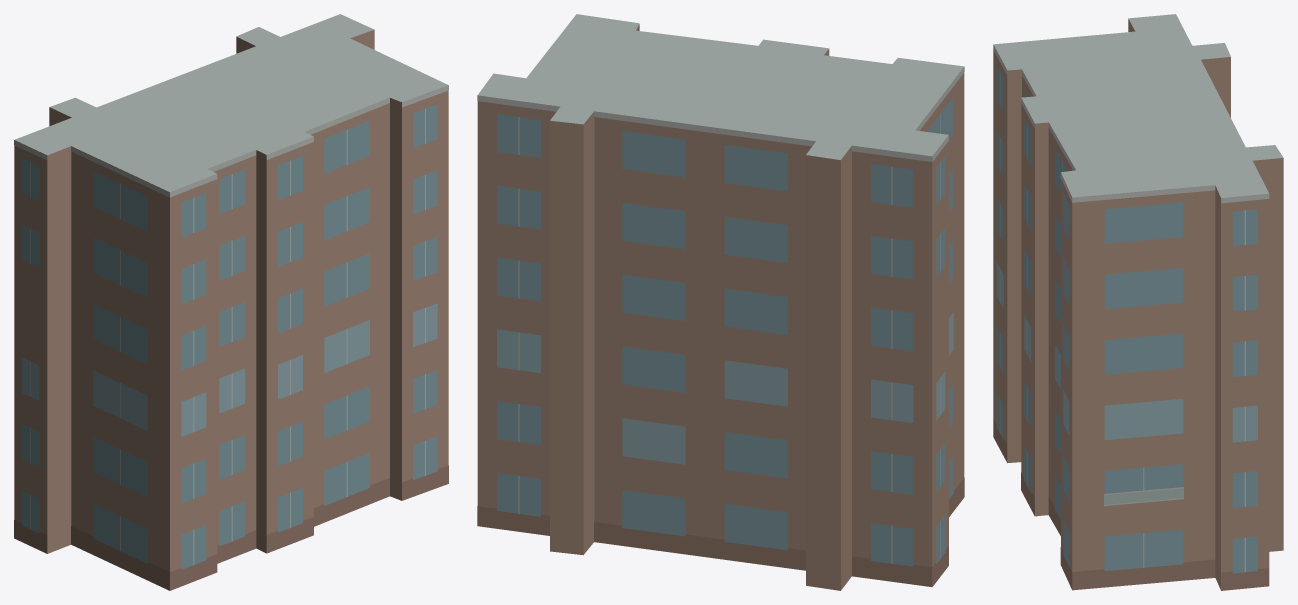
Rendered from survey-upis-32697671.glb.
3 renders of one model, left to right at view 1: azimuth 30°, elevation 25°; view 2: azimuth 150°, elevation 25°; view 3: azimuth 270°, elevation 25°, orthographic. The views are drawn at different scales.
Parts seen in each view (by area): view 1: survey-upis-32697671.tmp; view 2: survey-upis-32697671.tmp; view 3: survey-upis-32697671.tmp.
Part boxes in pixels (left/top/right/bottom): survey-upis-32697671.tmp: left=14, top=14, right=448, bottom=590; survey-upis-32697671.tmp: left=477, top=14, right=964, bottom=590; survey-upis-32697671.tmp: left=993, top=14, right=1283, bottom=590.
Size of the model in its own units: 18.42 by 18.3 by 12.27.
